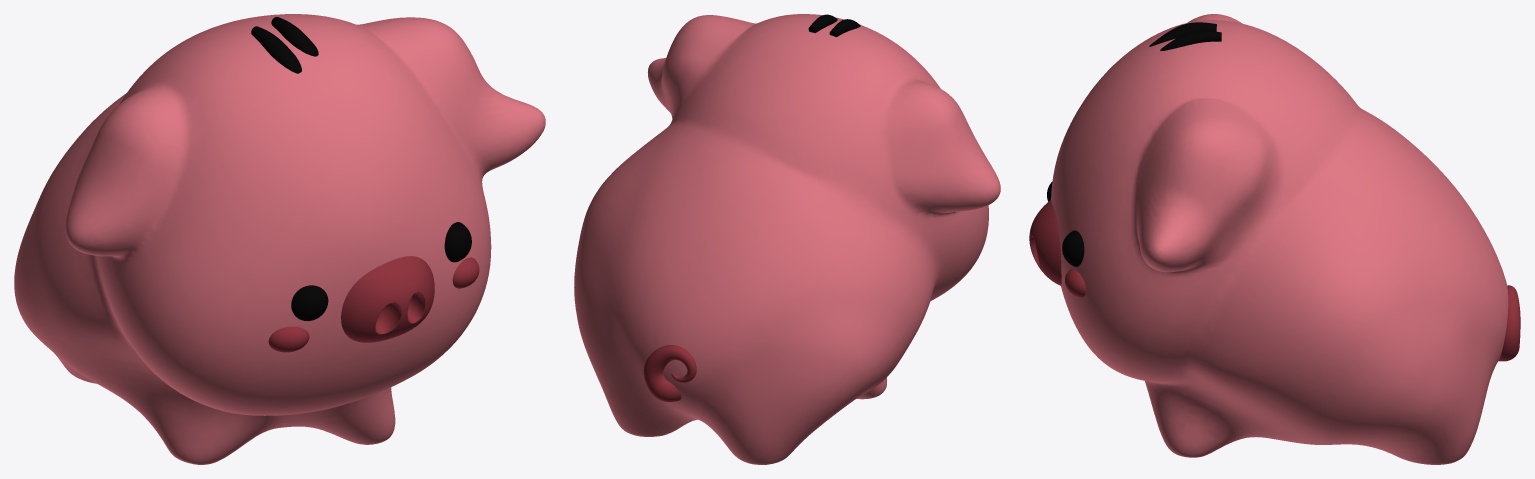
File: piggy.obj
3 renders of one model, left to right at view 1: azimuth 30°, elevation 25°; view 2: azimuth 150°, elevation 25°; view 3: azimuth 270°, elevation 25°, orthographic. The views are drawn at different scales.
Parts seen in each view (by area): view 1: Sphere, Tube; view 2: Sphere, Tube; view 3: Sphere, Tube.
Part boxes in pixels (x1,y1,x2,y2): Sphere: (14,14,545,464); Tube: (251,17,318,73); Sphere: (574,14,1000,464); Tube: (643,14,860,401); Sphere: (1029,14,1508,464); Tube: (1149,22,1520,361).
Size of the model in its own units: 1.22 by 1.1 by 1.27.
